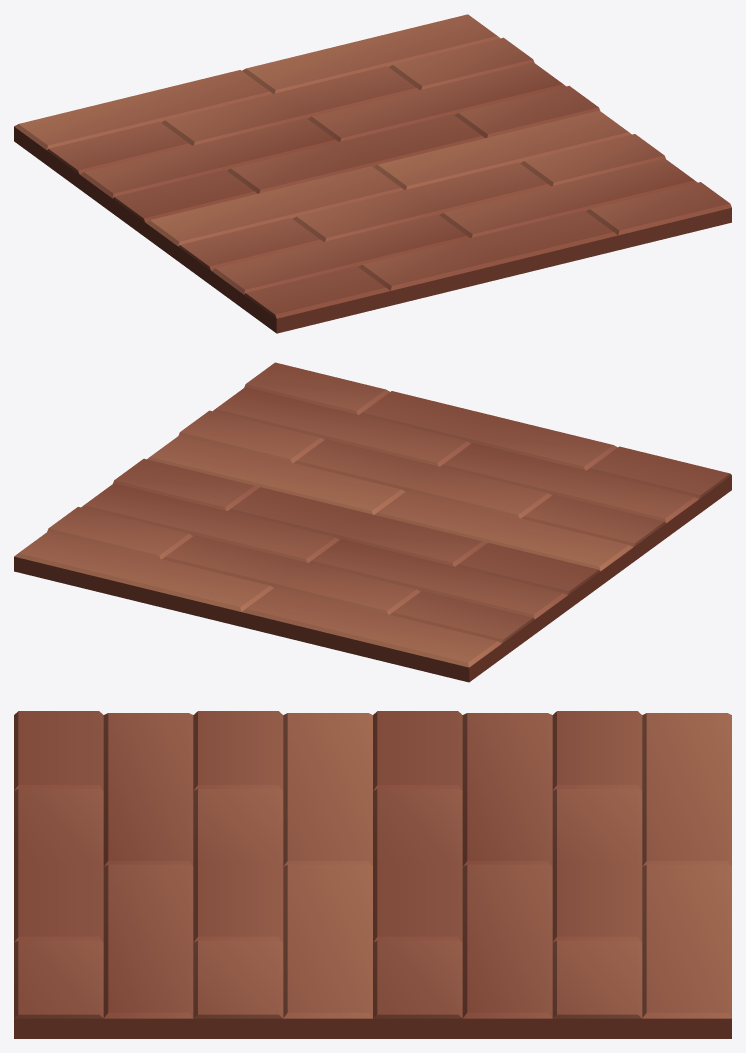
Rendered from floor_wood_large.glb.
3 views of the same model, one above another, from view 1: azimuth 30°, elevation 25°; view 2: azimuth 150°, elevation 25°; view 3: azimuth 270°, elevation 25° (orthographic). The views are drawn at different scales.
Visible parts, largest first — view 1: floor_wood_large; view 2: floor_wood_large; view 3: floor_wood_large.
Part boxes in pixels (left/top/right/bottom): floor_wood_large: left=14, top=14, right=731, bottom=333; floor_wood_large: left=14, top=362, right=731, bottom=682; floor_wood_large: left=14, top=711, right=731, bottom=1038.
Bounding box in the file's own units: 4 × 0.1499 × 4.
Materials: 1 (1 with a texture image).
